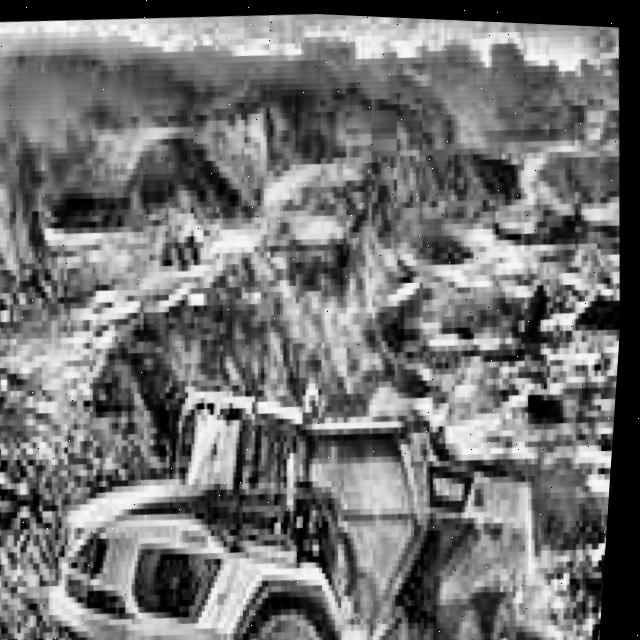dump_truck: (24, 318, 581, 640)
